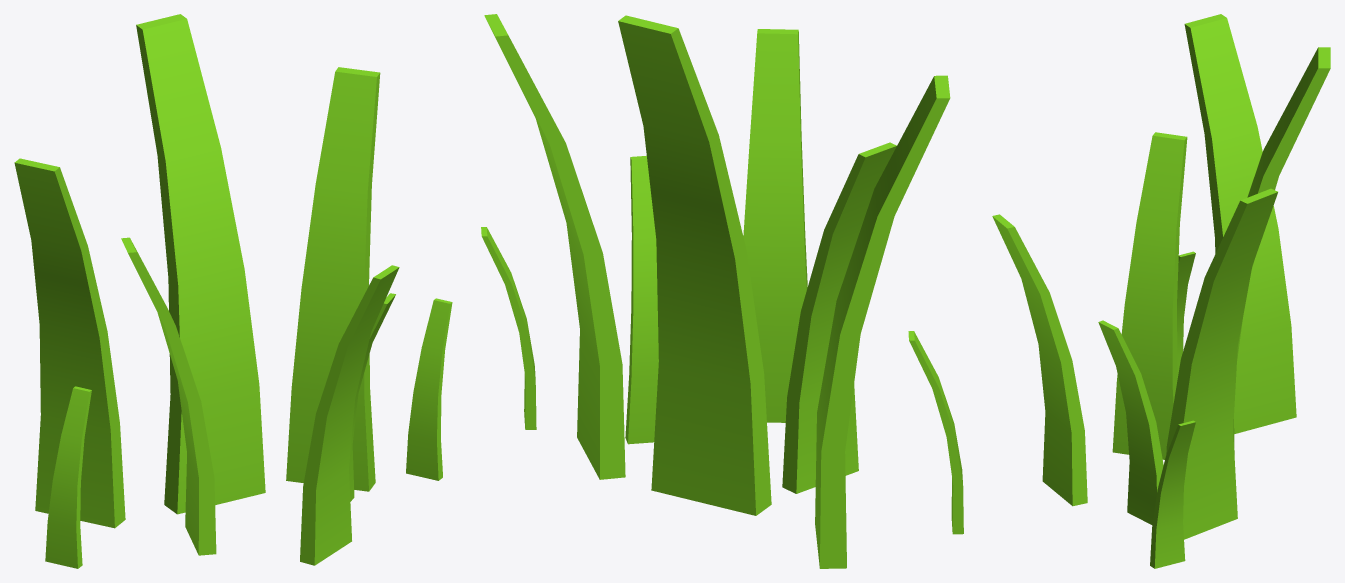
The model's file is Grass.FBX.
The picture shows the model from 3 angles, left to right: view 1: azimuth 30°, elevation 25°; view 2: azimuth 150°, elevation 25°; view 3: azimuth 270°, elevation 25°; orthographic projection. The views are drawn at different scales.
Visible parts, largest first — view 1: Box005; view 2: Box005; view 3: Box005.
Part boxes in pixels (x1,y1,x2,y2): Box005: (14, 14, 452, 568); Box005: (481, 14, 963, 568); Box005: (992, 14, 1330, 568).
Bounding box in the file's own units: 4.16 × 4.18 × 3.05.
